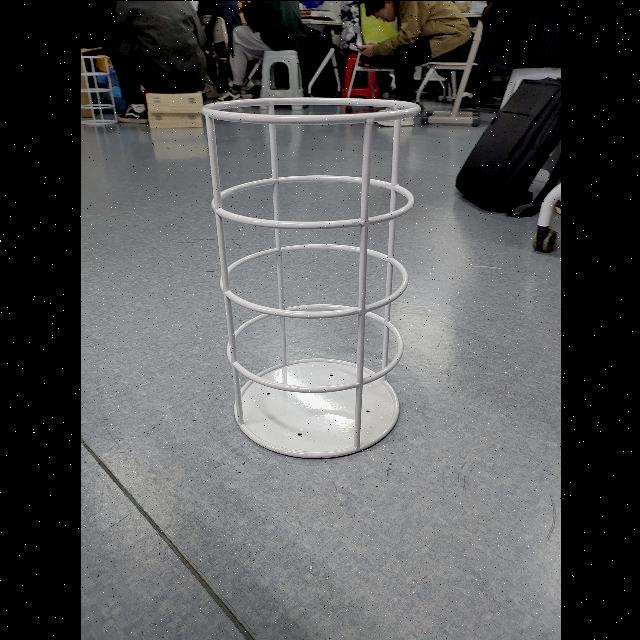S: (191, 90, 423, 462)
